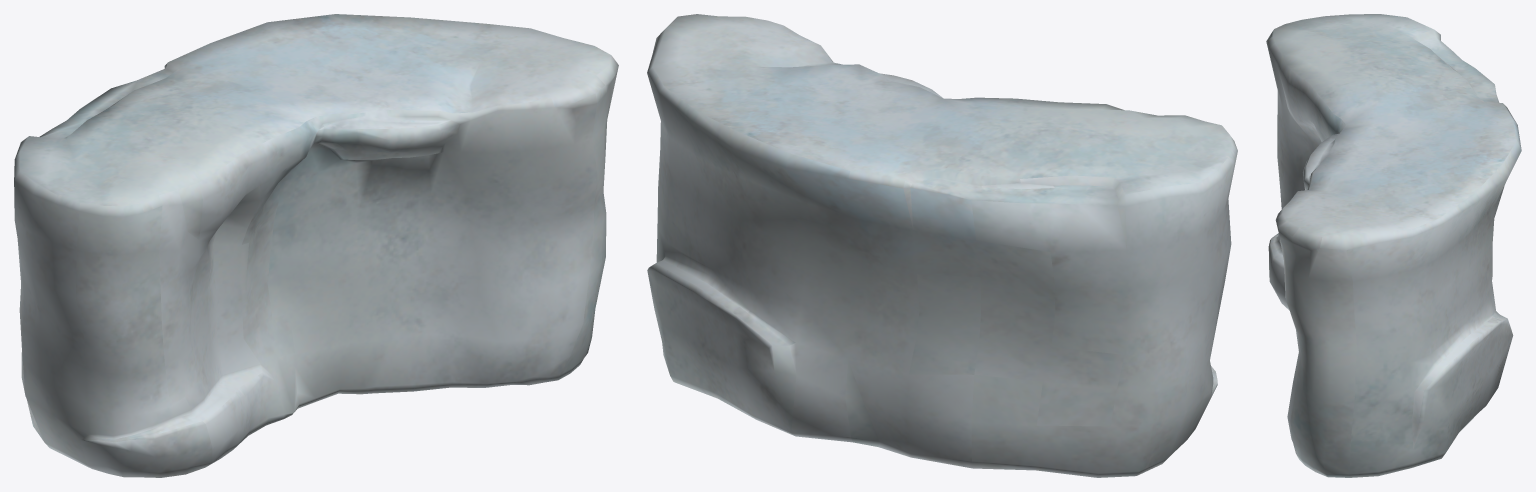
Rendered from P_RockDesert_CliffC07.obj.
3 renders of one model, left to right at view 1: azimuth 30°, elevation 25°; view 2: azimuth 150°, elevation 25°; view 3: azimuth 270°, elevation 25°, orthographic. The views are drawn at different scales.
Size of the model in its own units: 104 by 54.72 by 48.2.
